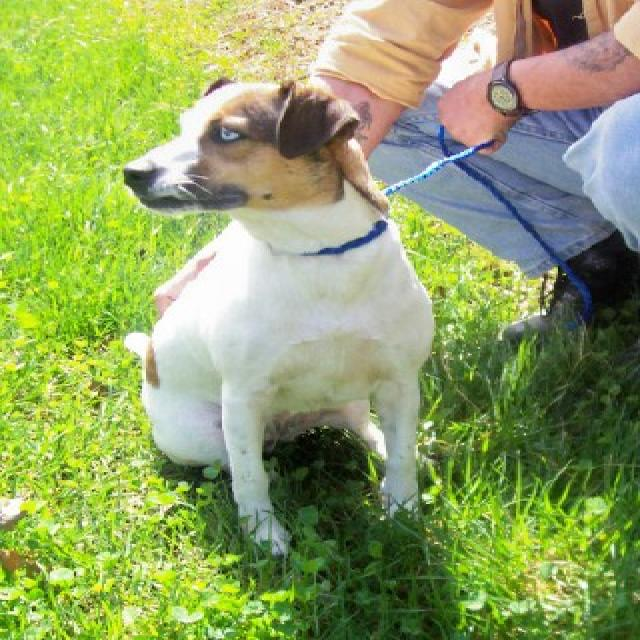Dogs: (120, 74, 436, 558)
